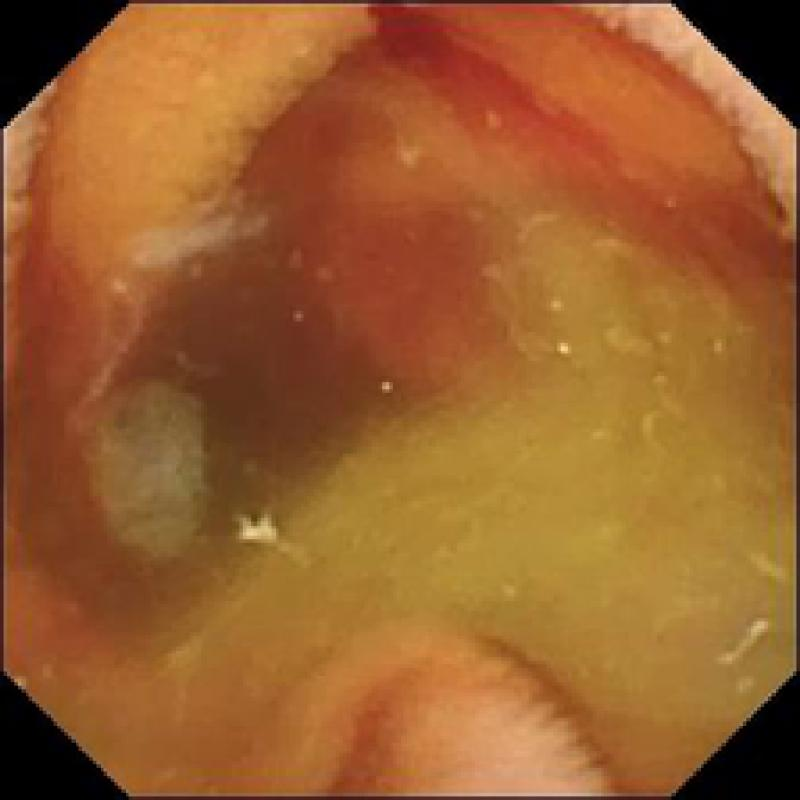bleeding: (259, 0, 793, 367), (10, 233, 118, 458)
